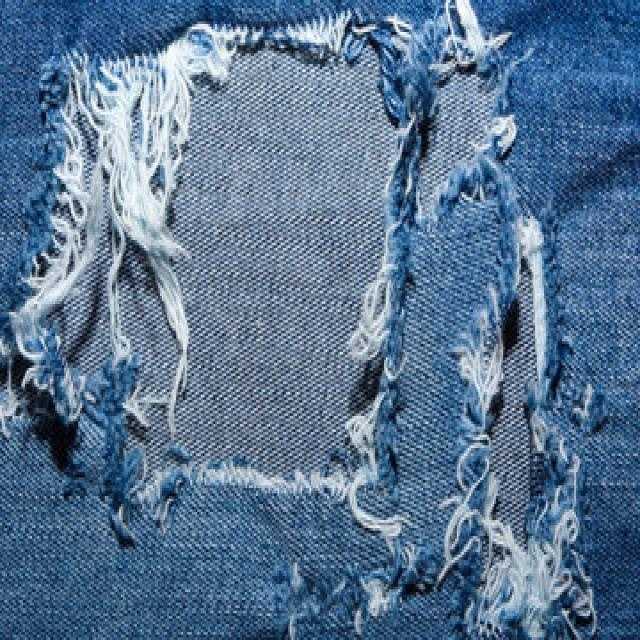Hole: (7, 13, 436, 548), (280, 173, 605, 640), (418, 61, 497, 218), (565, 383, 605, 435)
